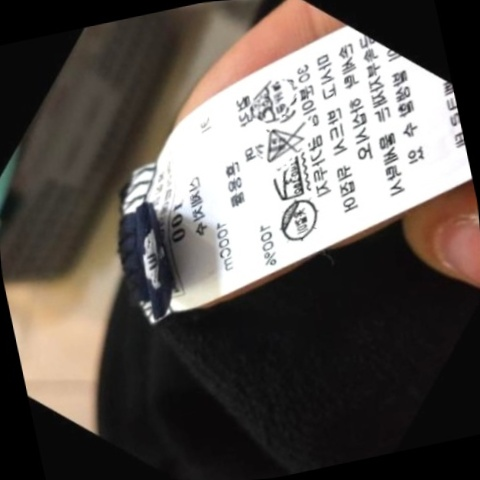hand_wash: (243, 71, 297, 128)
iron_medium: (263, 156, 310, 205)
line_dry_in_shade: (267, 190, 328, 250)
non_chlorine_bleach: (258, 119, 311, 166)
